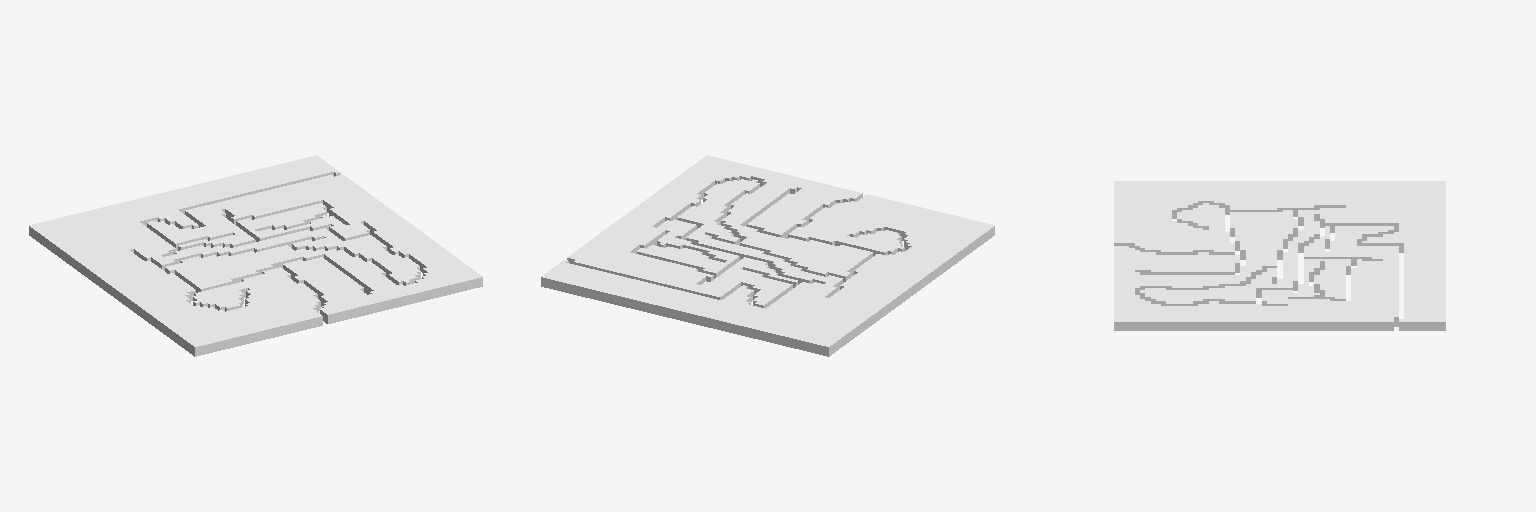
File: labirinto_1.obj
3 renders of one model, left to right at view 1: azimuth 30°, elevation 25°; view 2: azimuth 150°, elevation 25°; view 3: azimuth 270°, elevation 25°, orthographic.
Size of the model in its own units: 63 by 2 by 63.